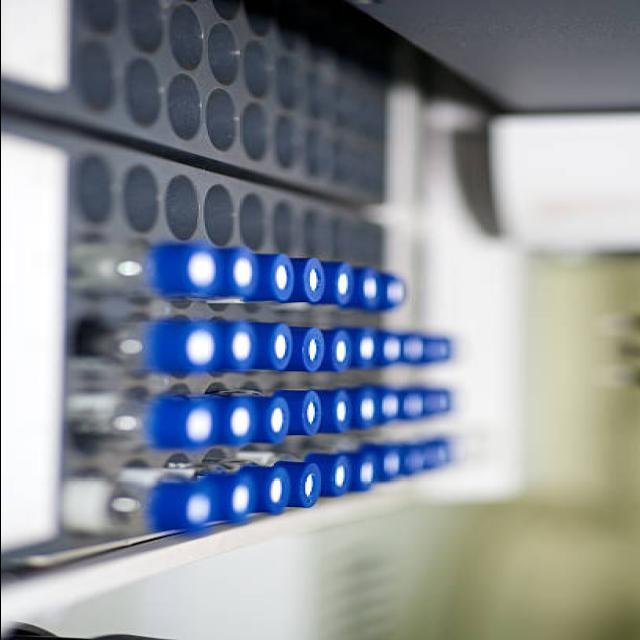vial: (168, 243, 224, 297), (170, 323, 222, 371), (218, 250, 265, 300), (171, 400, 218, 446), (214, 478, 256, 528), (172, 481, 208, 538), (255, 467, 293, 515), (227, 401, 263, 446), (262, 322, 293, 370), (263, 254, 292, 304), (227, 328, 260, 371), (348, 327, 378, 373), (350, 268, 380, 312), (262, 399, 290, 445), (296, 260, 324, 306), (296, 392, 324, 438), (296, 460, 320, 512), (324, 328, 350, 375), (300, 328, 326, 372), (326, 388, 352, 432), (350, 390, 376, 432), (324, 454, 348, 499), (331, 262, 352, 307), (383, 276, 409, 310), (352, 452, 374, 492), (402, 393, 427, 423), (398, 448, 424, 474), (404, 335, 424, 365), (379, 336, 397, 368), (422, 442, 444, 468), (377, 449, 395, 478), (430, 342, 450, 366), (434, 390, 450, 419), (378, 394, 396, 419)
